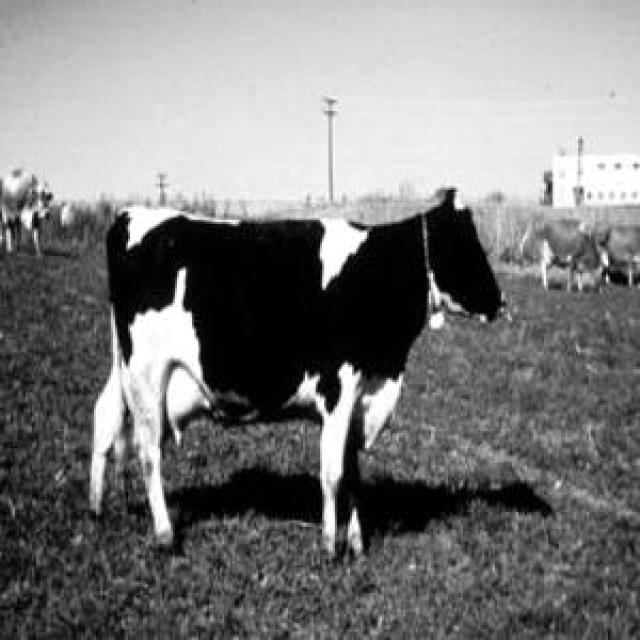COW: (90, 191, 501, 556)
